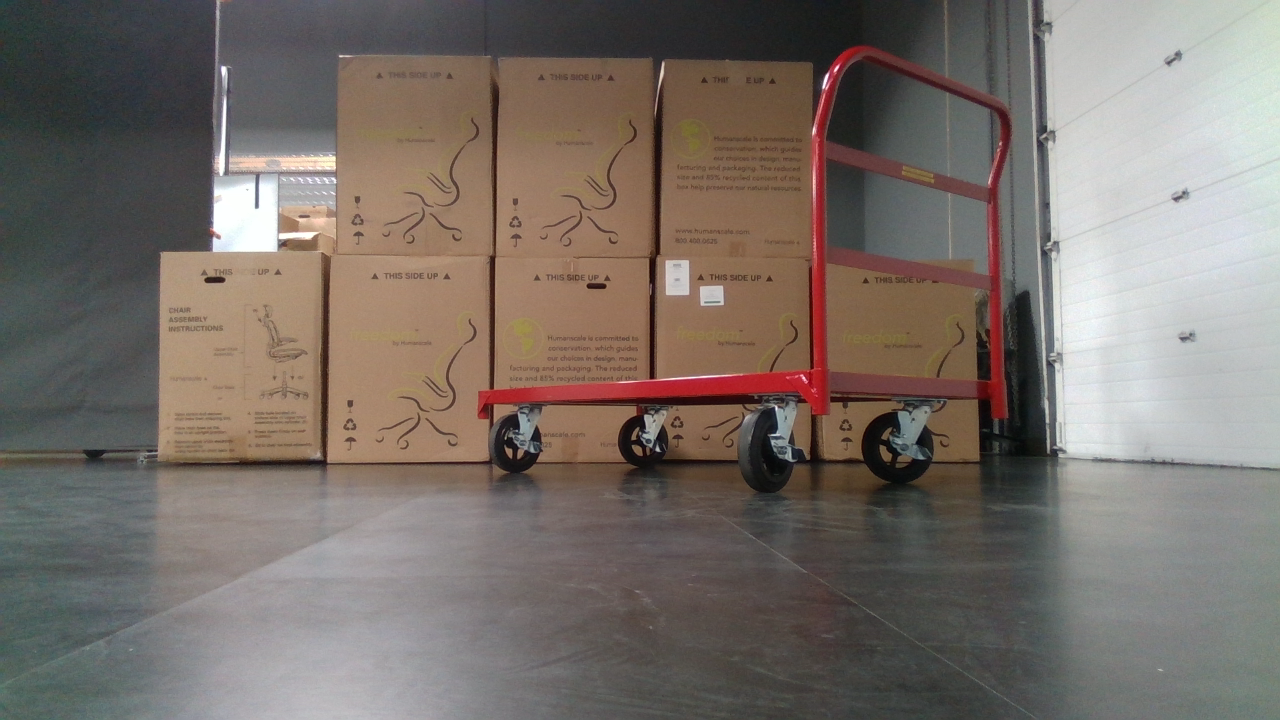Dolly: (473, 34, 1013, 498)
Wheel: (848, 407, 948, 483), (732, 416, 806, 496), (476, 410, 553, 477), (606, 411, 679, 463)
